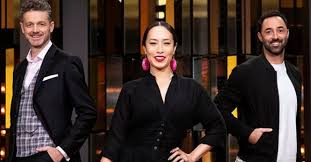Bad: (9, 1, 226, 161), (98, 9, 302, 162)
